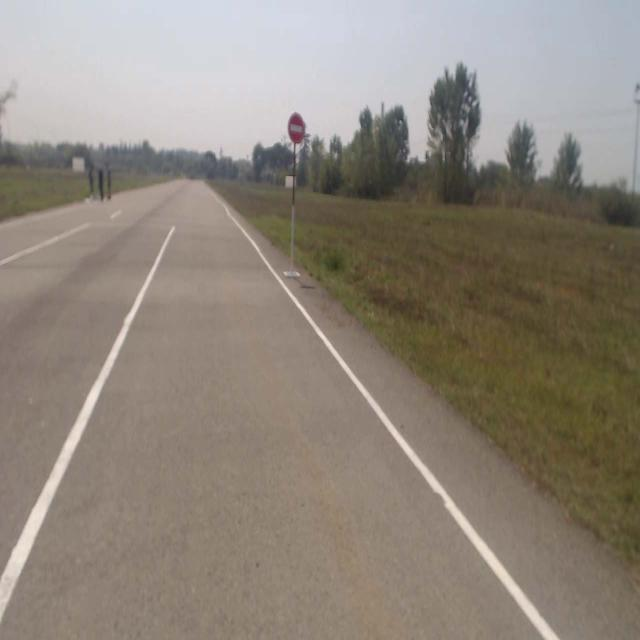girisyok: (288, 112, 304, 143)
